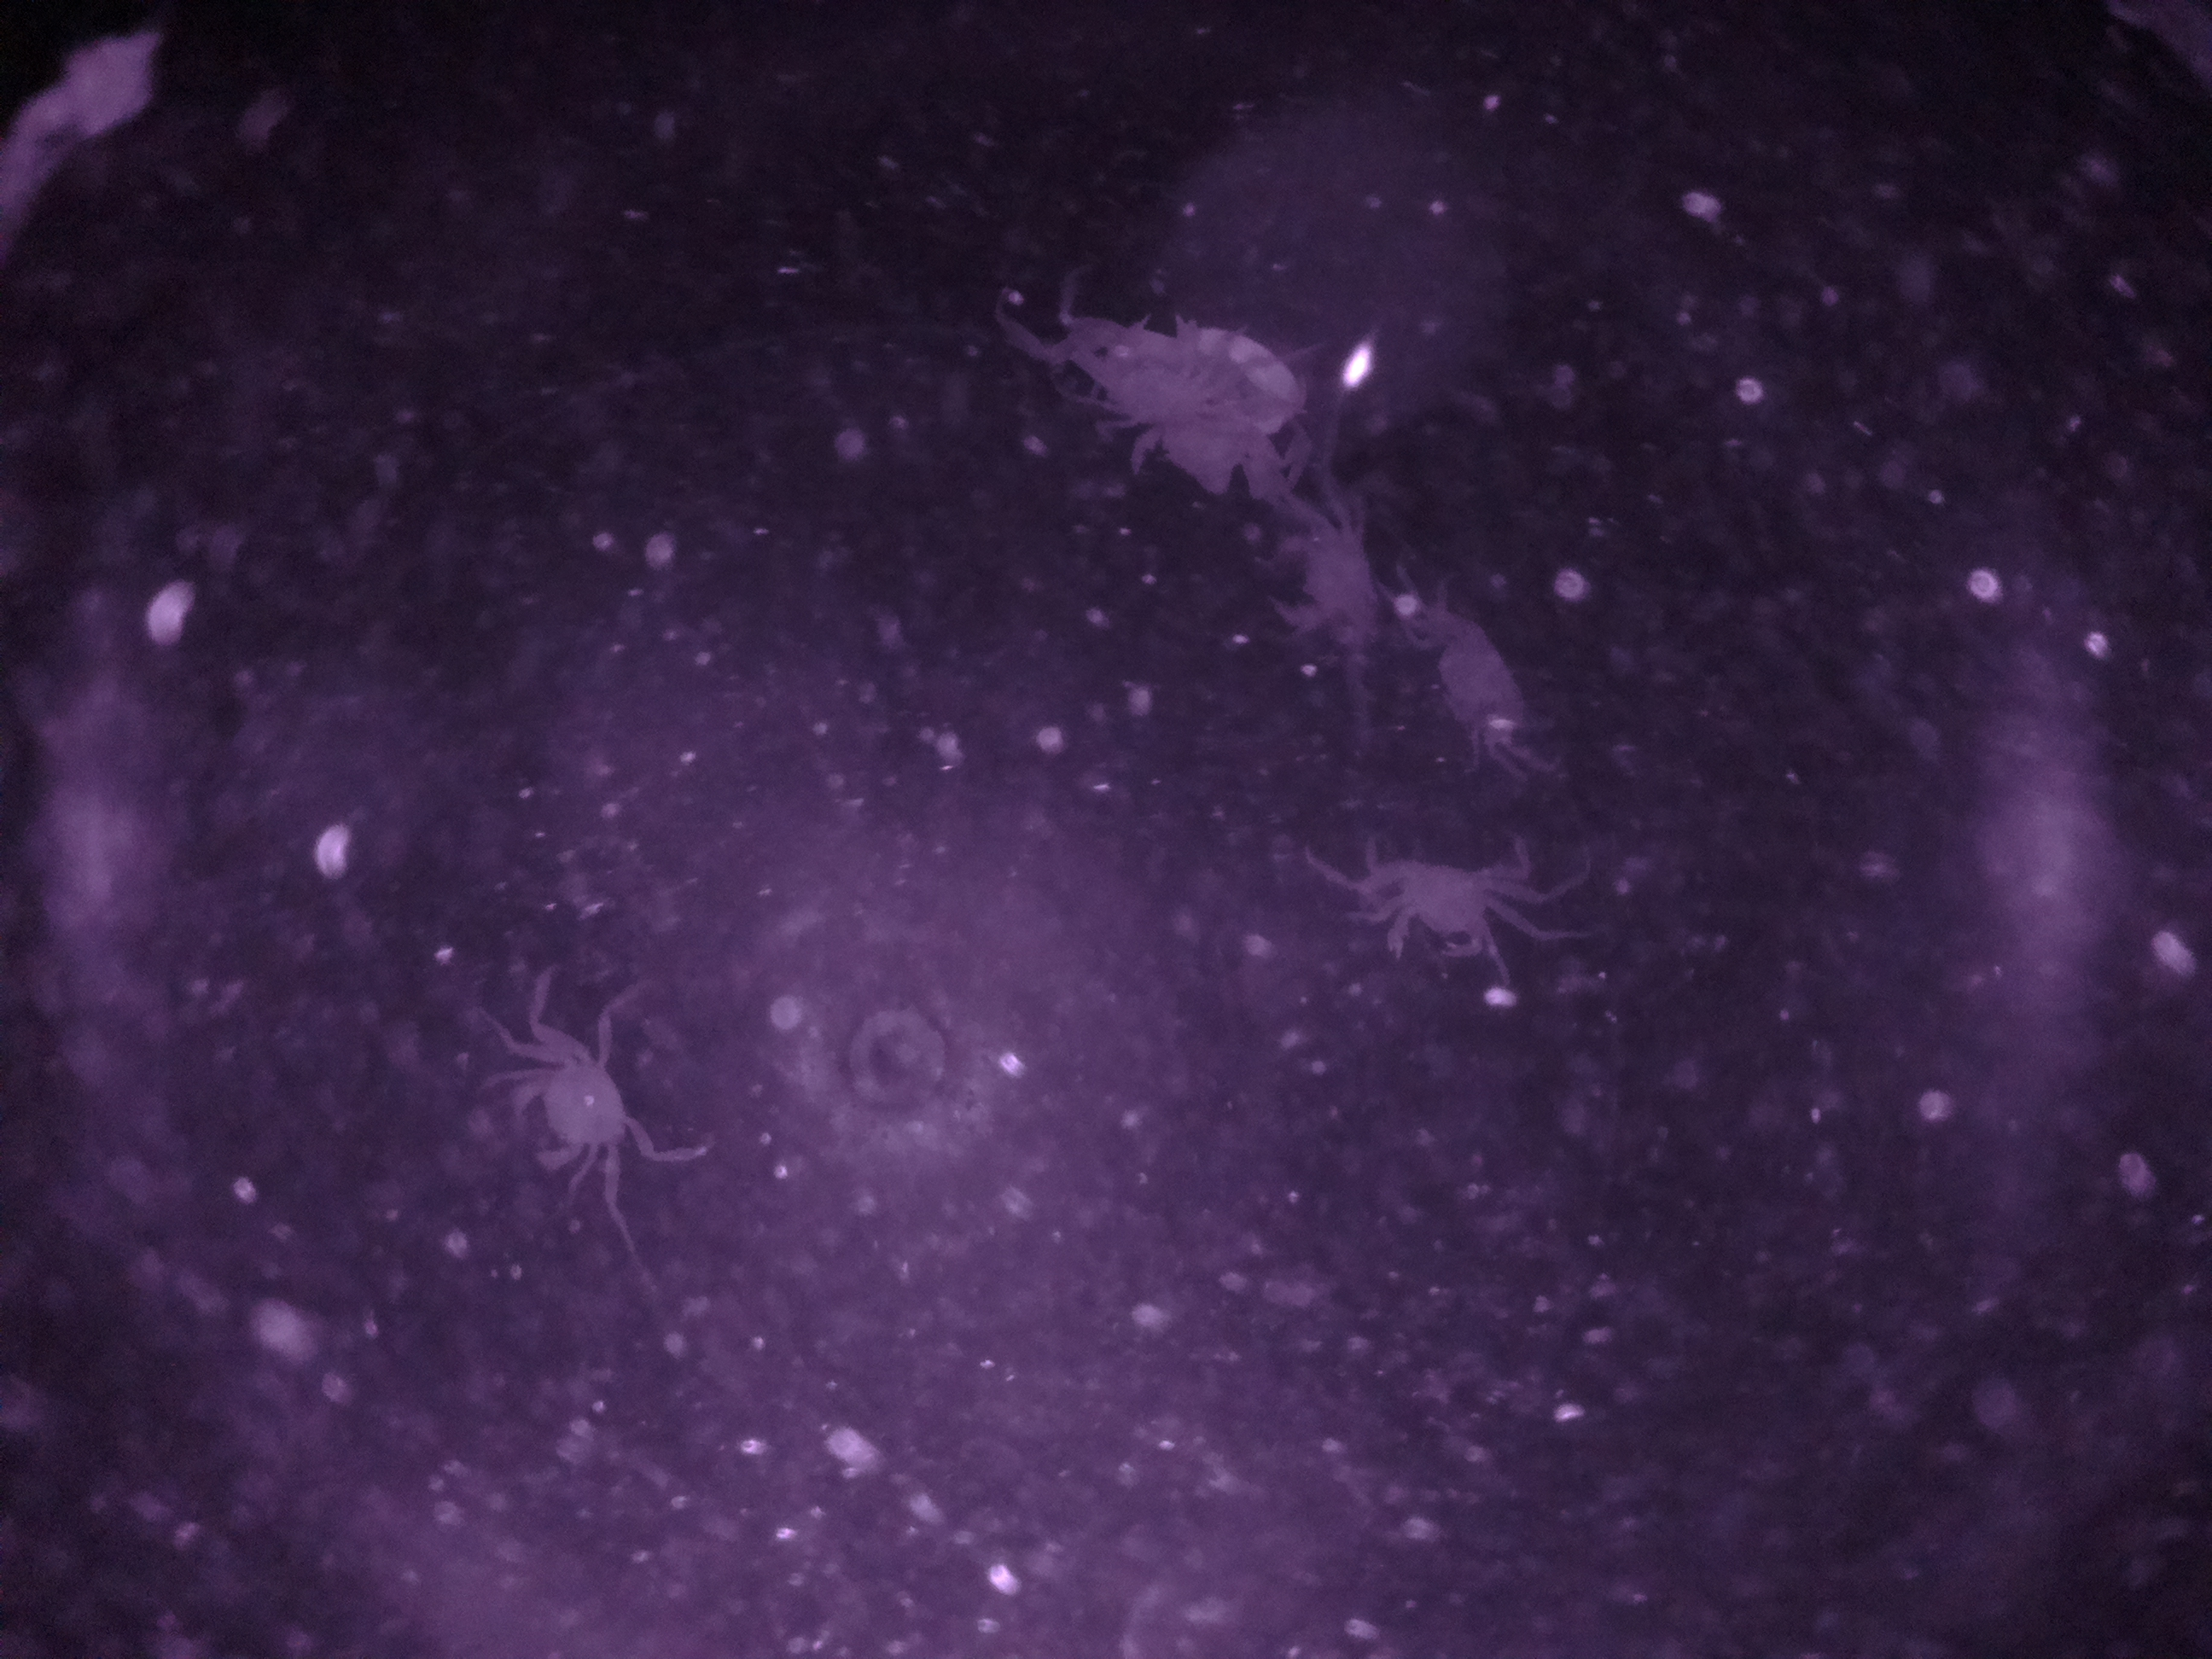Crab: (488, 1012, 665, 1202)
